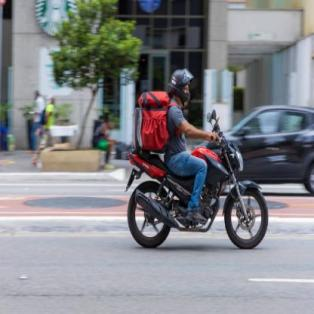Motocicleta: (127, 123, 272, 263)
